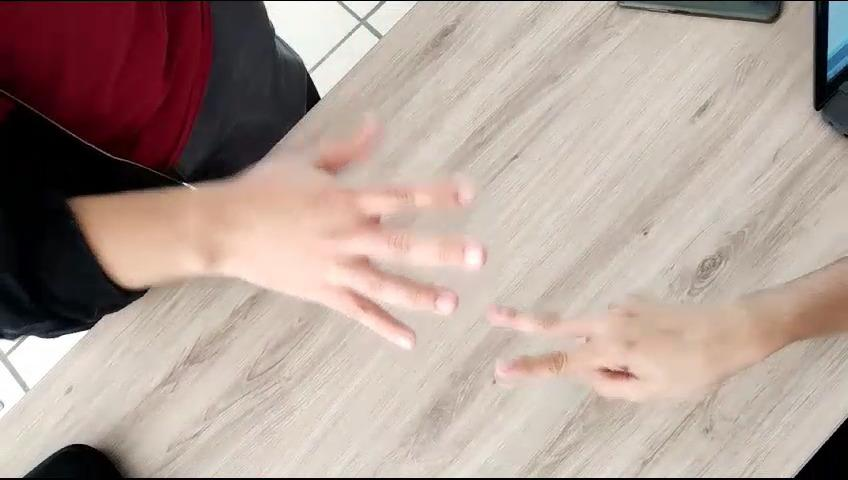Paper: (225, 125, 496, 356)
Scissor: (475, 283, 789, 409)
